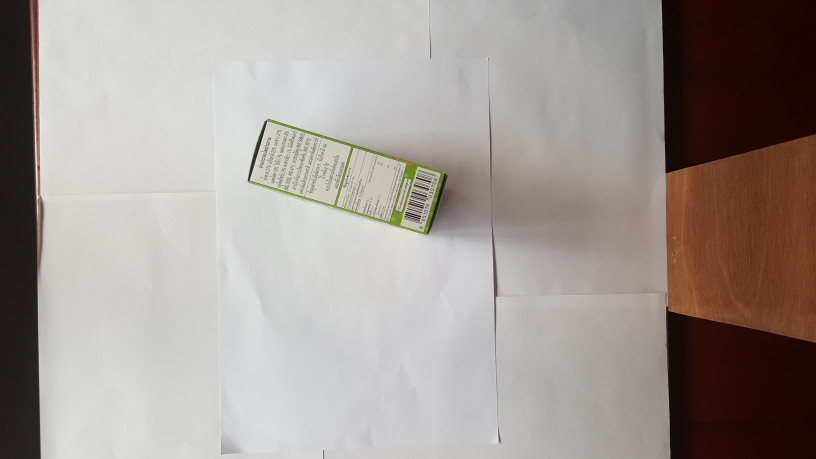collon-matcha: (247, 119, 447, 238)
